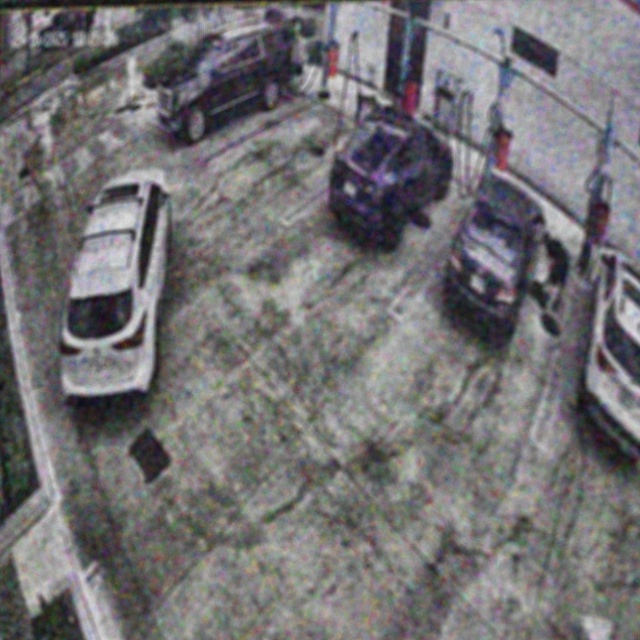Car: (61, 166, 173, 398), (327, 102, 455, 247), (444, 172, 546, 336)
